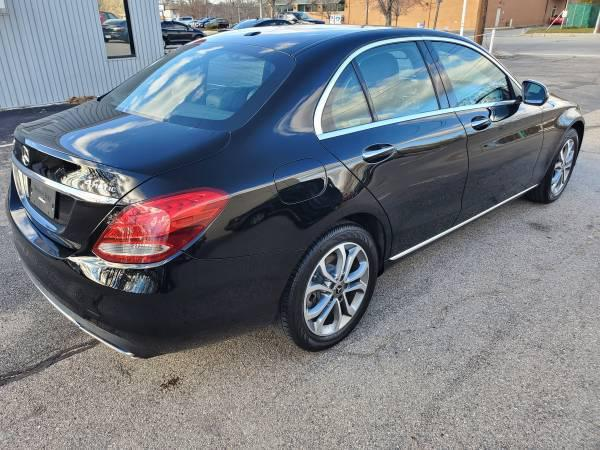Front_Fender: (534, 96, 585, 186)
Front_Right_Door: (453, 94, 544, 223)
Front_Right_Window: (419, 34, 521, 105)
Rear_Bumper: (4, 184, 313, 357)
Rear_Fender: (122, 119, 363, 255)
Rear_Right_Door: (318, 109, 473, 262)
Rear_Right_Window: (312, 34, 449, 137)
Rear_Windshield: (98, 33, 292, 125)
Right_Taillight: (87, 182, 231, 264)
Roof: (204, 20, 526, 133)
Tailgate: (12, 91, 230, 246)
Wheel: (285, 228, 383, 349), (545, 132, 580, 201)
